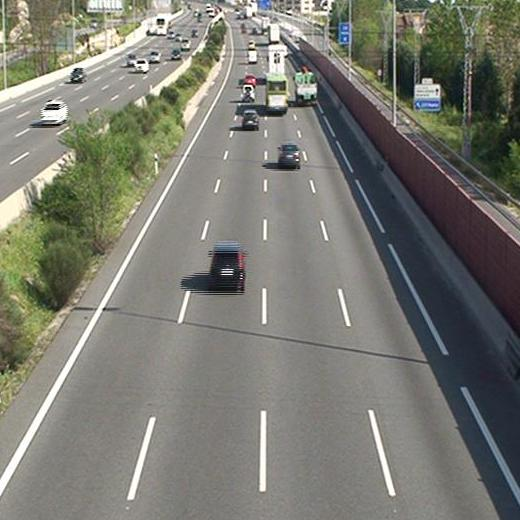bus: (267, 75, 287, 111)
car: (209, 246, 245, 285), (278, 143, 300, 166), (242, 111, 258, 129), (242, 86, 254, 101), (244, 75, 256, 84)
small-truck: (295, 73, 317, 104)
truck: (268, 47, 284, 74)
van: (248, 51, 256, 63)
